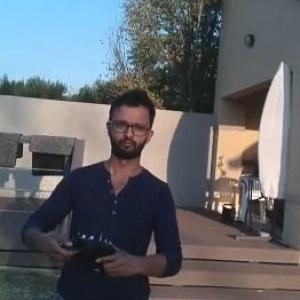follow: (13, 77, 186, 299)
